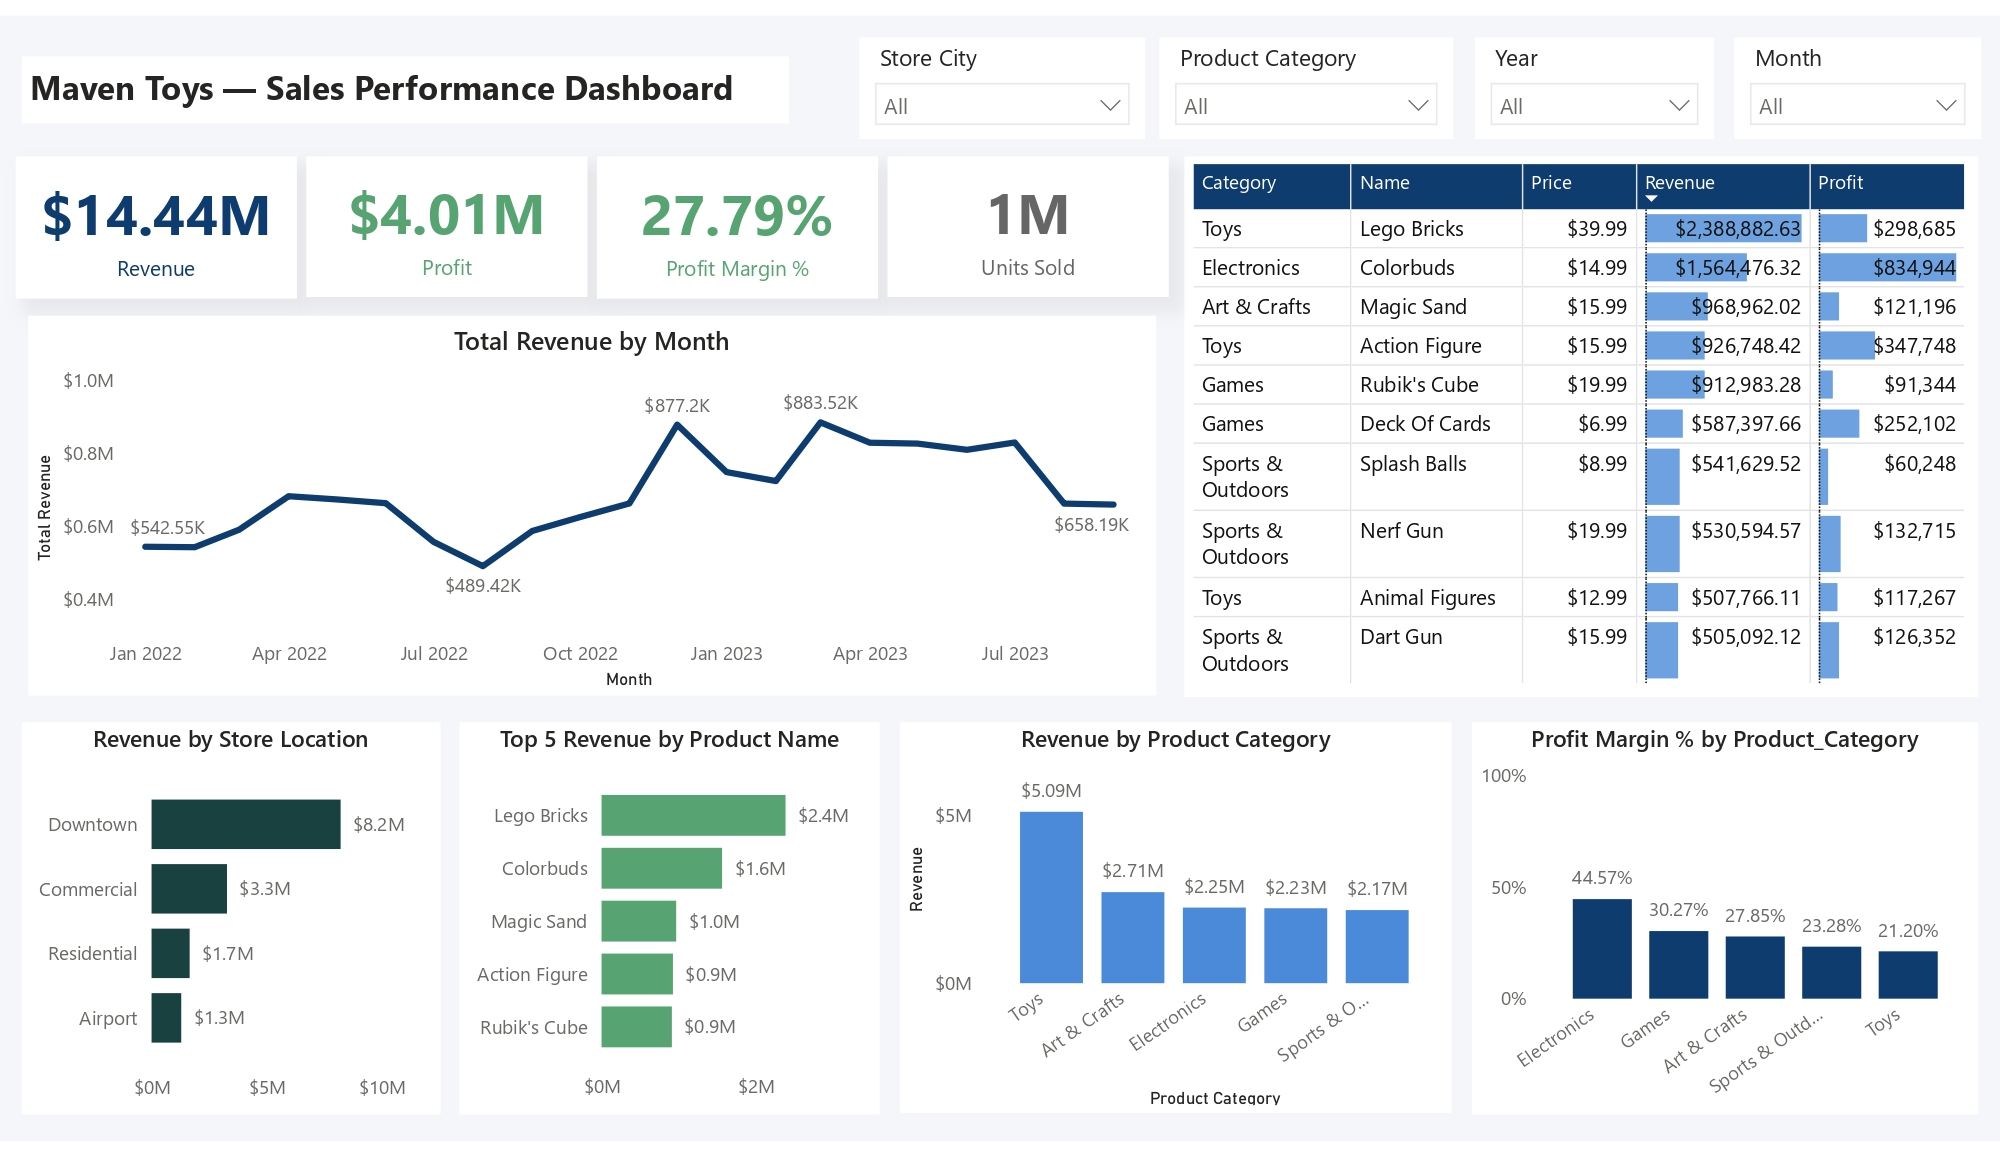

What the dashboard file says about the page in this screenshot:
{"tool":"powerbi","page":{"name":"Page 1","canvas":[1280,720],"ordinal":0},"visuals":[{"type":"slicer","fields":{"Values":["stores.Store_City"]},"box":[549.3,14.1,183.4,64.5],"z":0},{"type":"slicer","fields":{"Values":["products.Product_Category"]},"box":[741.8,14.1,188.5,64.5],"z":1000},{"type":"card","fields":{"Values":["sales.Revenue"]},"box":[10.5,89.4,180,90.6],"z":2000},{"type":"card","fields":{"Values":["sales.Profit"]},"box":[196.2,89.8,180,90],"z":3000},{"type":"card","fields":{"Values":["sales.Profit Margin %"]},"box":[381.8,89.4,180,90.6],"z":4000},{"type":"card","fields":{"Values":["Sum(sales.Units)"]},"box":[567.4,89.8,180,90],"z":5000},{"type":"lineChart","fields":{"Category":["calendar.Start of Month"],"Y":["sales.Total Revenue"]},"box":[18.1,192.5,721.6,242.9],"z":6000},{"type":"clusteredColumnChart","fields":{"Category":["products.Product_Category"],"Y":["sales.Revenue"]},"box":[575.5,451.6,352.8,250.5],"z":7000},{"type":"clusteredBarChart","title":"Revenue by Store Location","fields":{"Category":["stores.Store_Location"],"Y":["sales.Revenue"]},"box":[13.5,451.4,267.5,251.4],"z":8000},{"type":"slicer","fields":{"Values":["calendar.Year"]},"box":[944.4,14.1,153.2,64.5],"z":9000},{"type":"tableEx","fields":{"Values":["products.Product_Category","products.Product_Name","Sum(products.Product_Price)","sales.Total Revenue","sales.Total Profit"]},"box":[758.9,89.7,508,345.7],"z":10000},{"type":"clusteredBarChart","title":"Top 5 Revenue by Product Name","fields":{"Category":["products.Product_Name"],"Y":["sales.Revenue"]},"box":[293.5,451.6,269.1,251],"z":11000},{"type":"slicer","fields":{"Values":["calendar.Month Name"]},"box":[1110.7,14.1,158.2,64.5],"z":12000},{"type":"clusteredColumnChart","fields":{"Category":["products.Product_Category"],"Y":["sales.Profit Margin %"]},"box":[942.6,451.6,324.1,251.4],"z":13000},{"type":"textbox","box":[13.1,26.2,490.8,43.3],"z":14000}]}

Visuals, with their boxes in screenshot pixels (x1, y1, x2, y2), scaled from the page's 1280x720 canvas onto the 2000x1157 screenshot:
slicer - stores.Store_City: Rect(858, 23, 1145, 126)
slicer - products.Product_Category: Rect(1159, 23, 1454, 126)
card - sales.Revenue: Rect(16, 144, 298, 289)
card - sales.Profit: Rect(307, 144, 588, 289)
card - sales.Profit Margin %: Rect(597, 144, 878, 289)
card - Sum(sales.Units): Rect(887, 144, 1168, 289)
lineChart - calendar.Start of Month x sales.Total Revenue: Rect(28, 309, 1156, 700)
clusteredColumnChart - products.Product_Category x sales.Revenue: Rect(899, 726, 1450, 1128)
"Revenue by Store Location" clusteredBarChart: Rect(21, 725, 439, 1129)
slicer - calendar.Year: Rect(1476, 23, 1715, 126)
tableEx - products.Product_Category x products.Product_Name: Rect(1186, 144, 1980, 700)
"Top 5 Revenue by Product Name" clusteredBarChart: Rect(459, 726, 879, 1129)
slicer - calendar.Month Name: Rect(1735, 23, 1983, 126)
clusteredColumnChart - products.Product_Category x sales.Profit Margin %: Rect(1473, 726, 1979, 1130)
textbox: Rect(20, 42, 787, 112)
